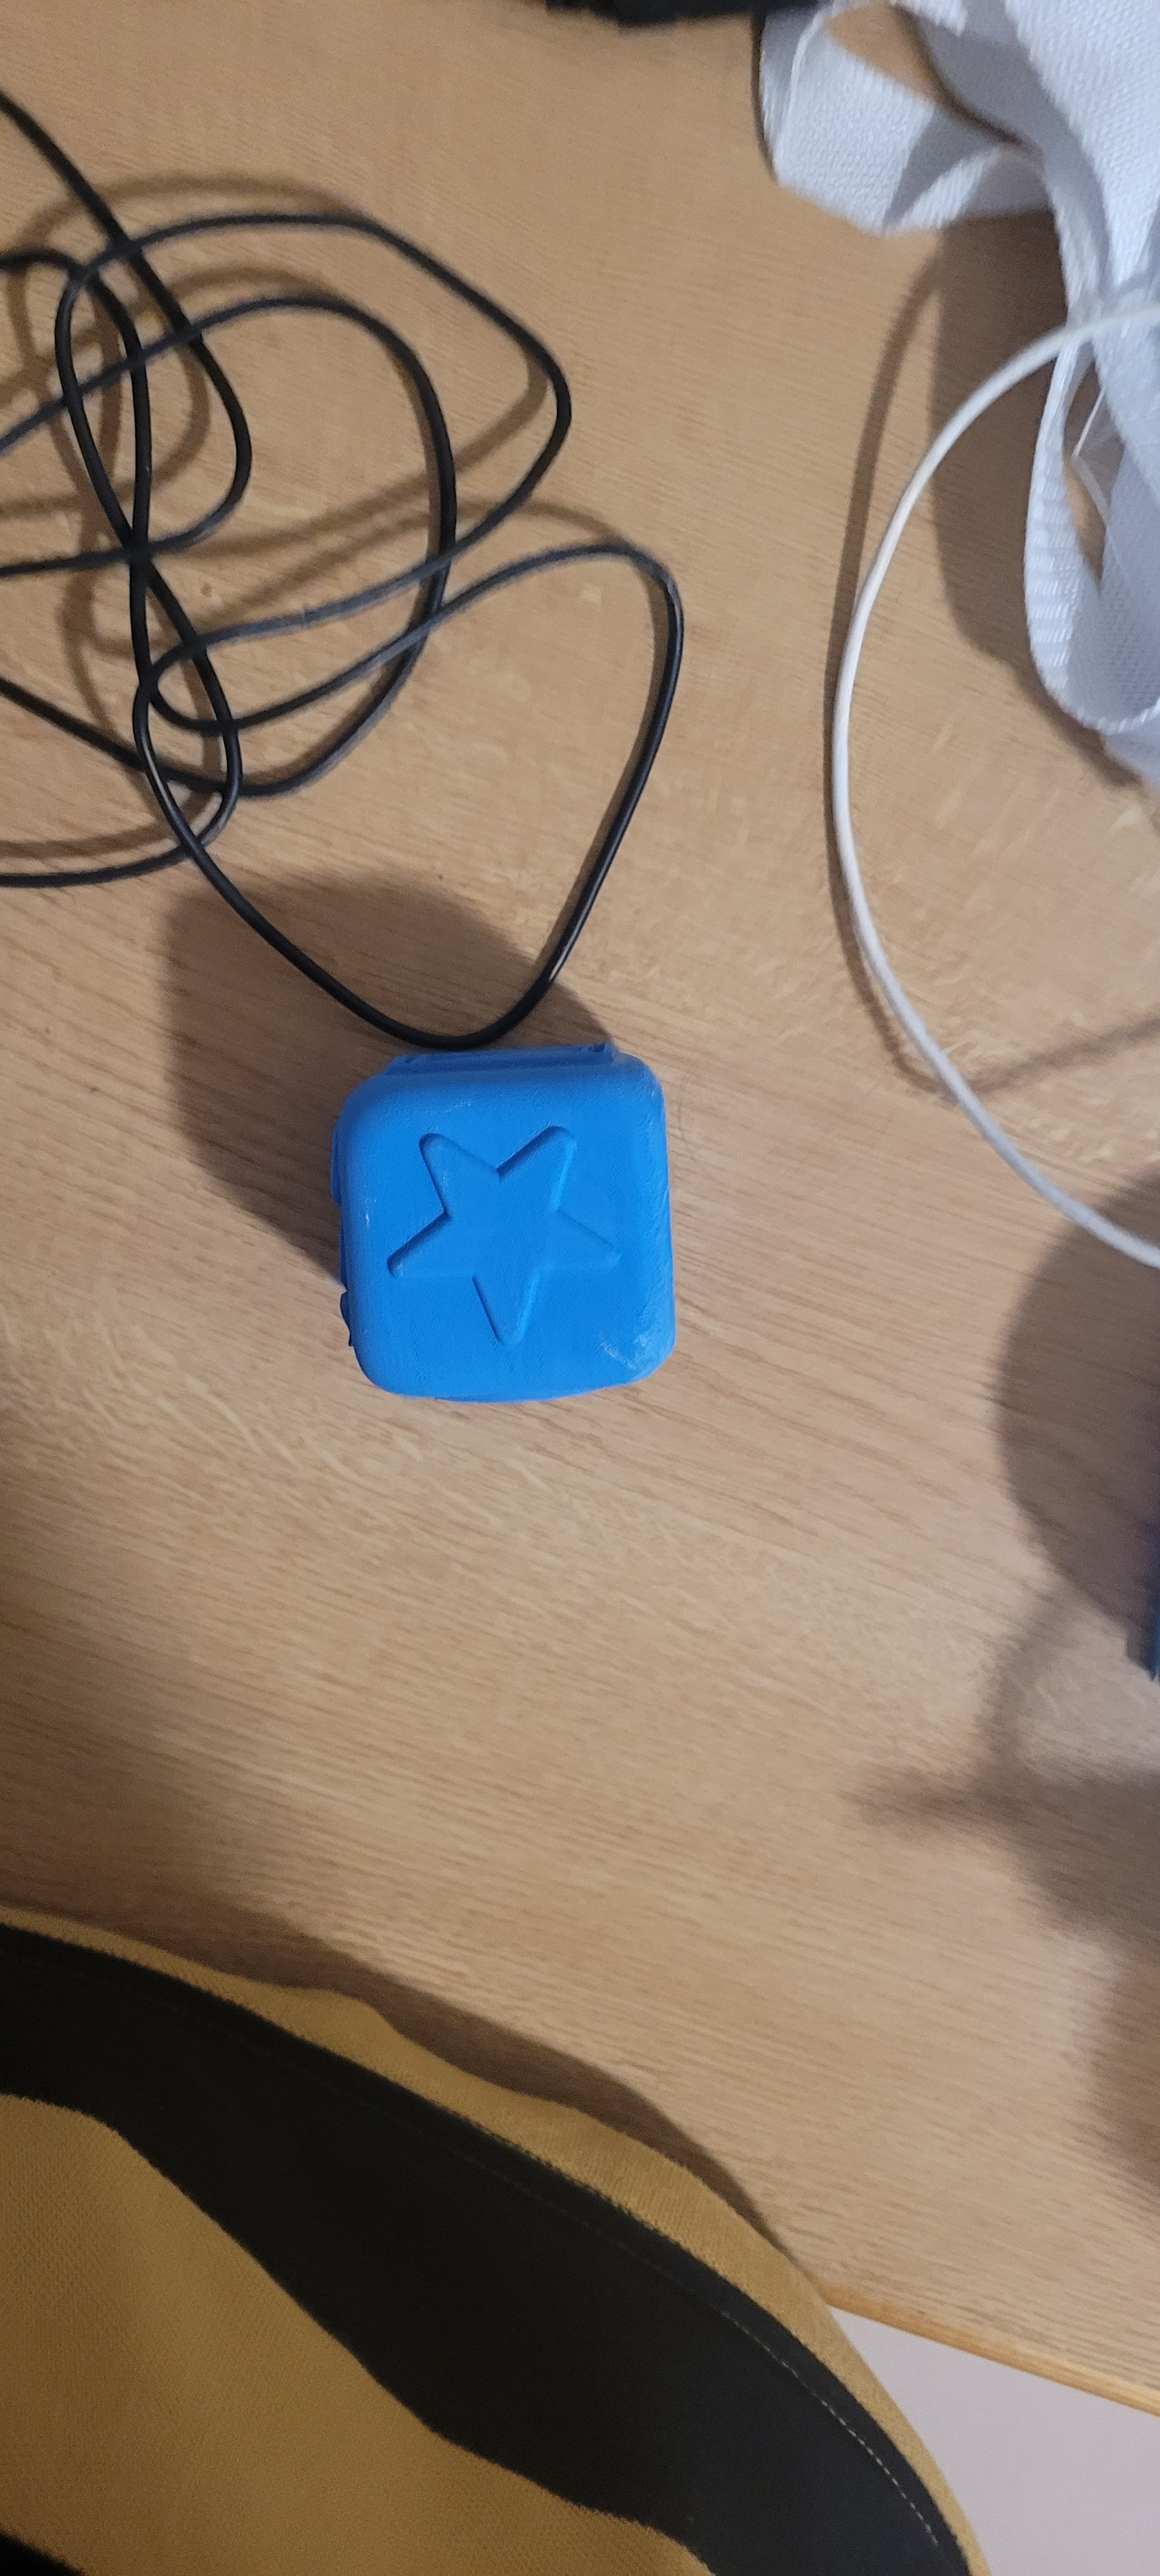Star: (360, 1112, 642, 1354)
